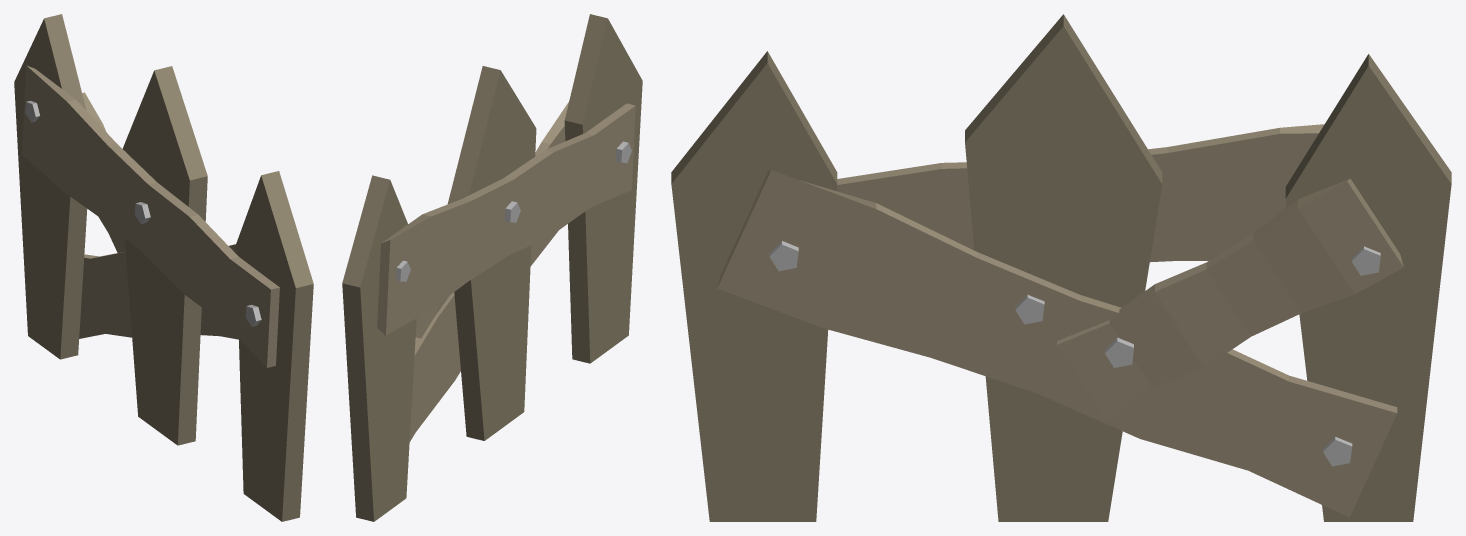
File: Fence5.fbx
3 views of the same model, side by side, from view 1: azimuth 30°, elevation 25°; view 2: azimuth 150°, elevation 25°; view 3: azimuth 270°, elevation 25° (orthographic). The views are drawn at different scales.
Parts seen in each view (by area): view 1: Fence_v5; view 2: Fence_v5; view 3: Fence_v5.
Part boxes in pixels (x1,y1,x2,y2): Fence_v5: (14, 14, 313, 521); Fence_v5: (342, 14, 642, 521); Fence_v5: (671, 14, 1451, 521).
Bounding box in the file's own units: 0.5958 × 3.81 × 5.44.
